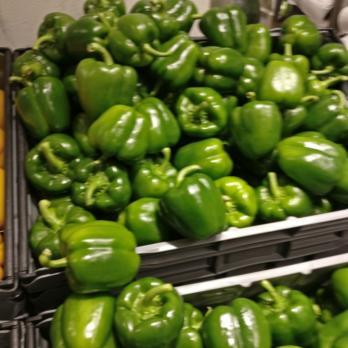Capsicum: (22, 2, 348, 212), (47, 292, 348, 348), (47, 222, 144, 292)
